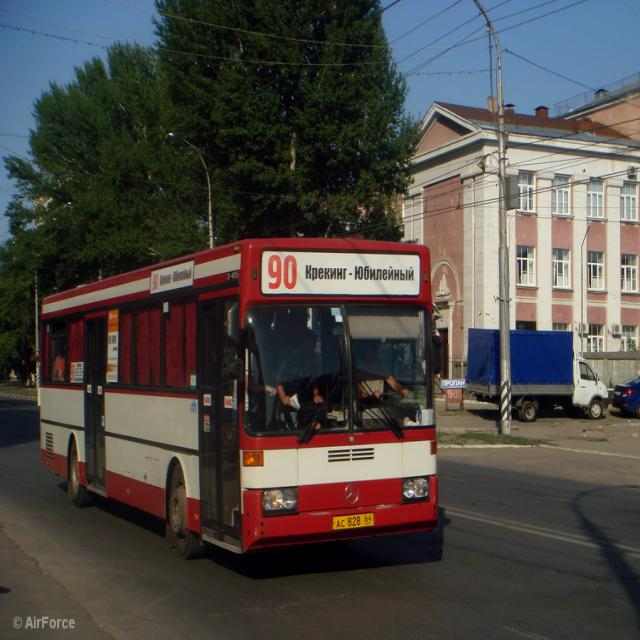number-of-bus: (266, 252, 300, 292), (152, 272, 162, 296)
